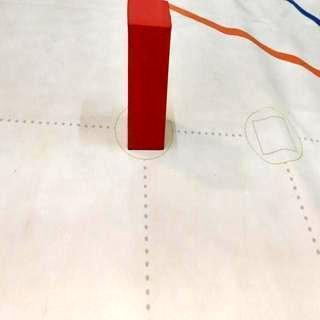redbox: (125, 0, 171, 152)
